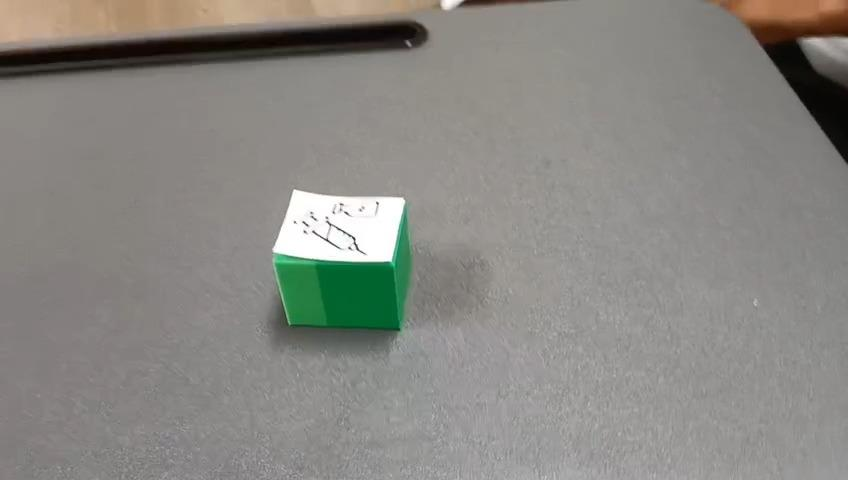antiseptic cream: (270, 186, 413, 331)
